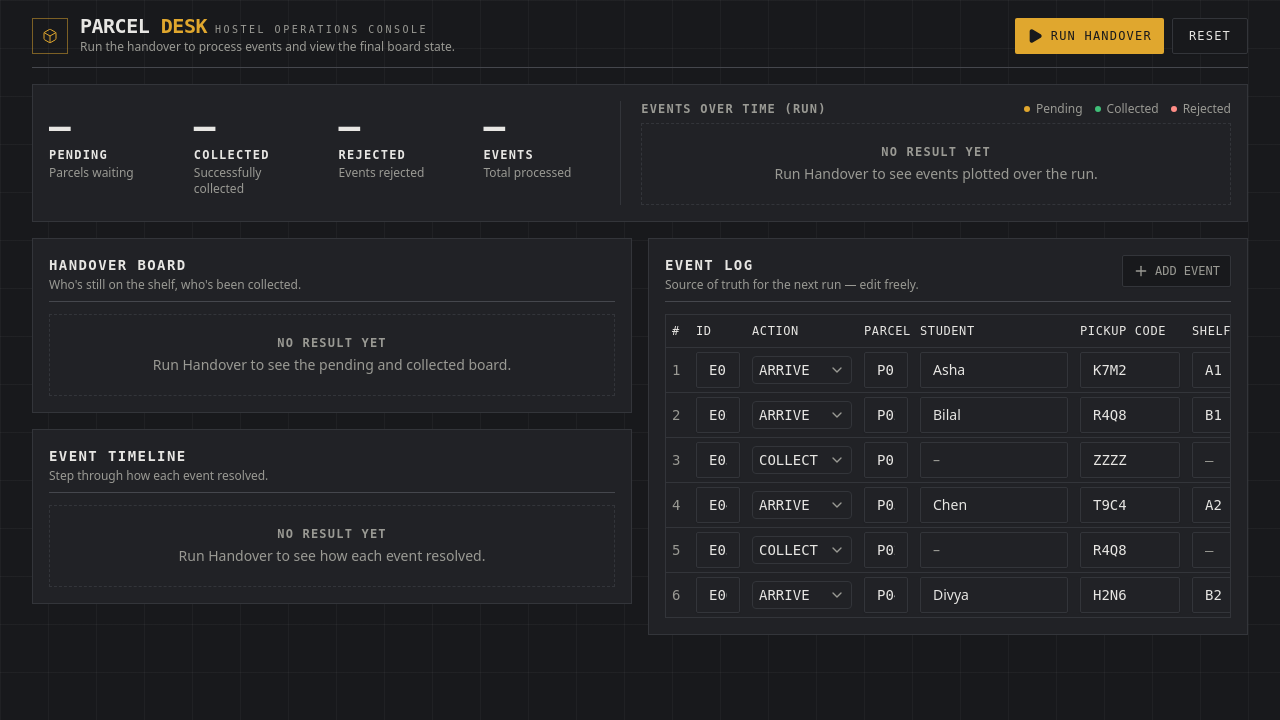
App — Add Event › appends a new blank row to the table
The width and height of the screenshot is (1280, 720).
Click the button "Add Event" at (1176, 271), box [1122,255,1231,287]
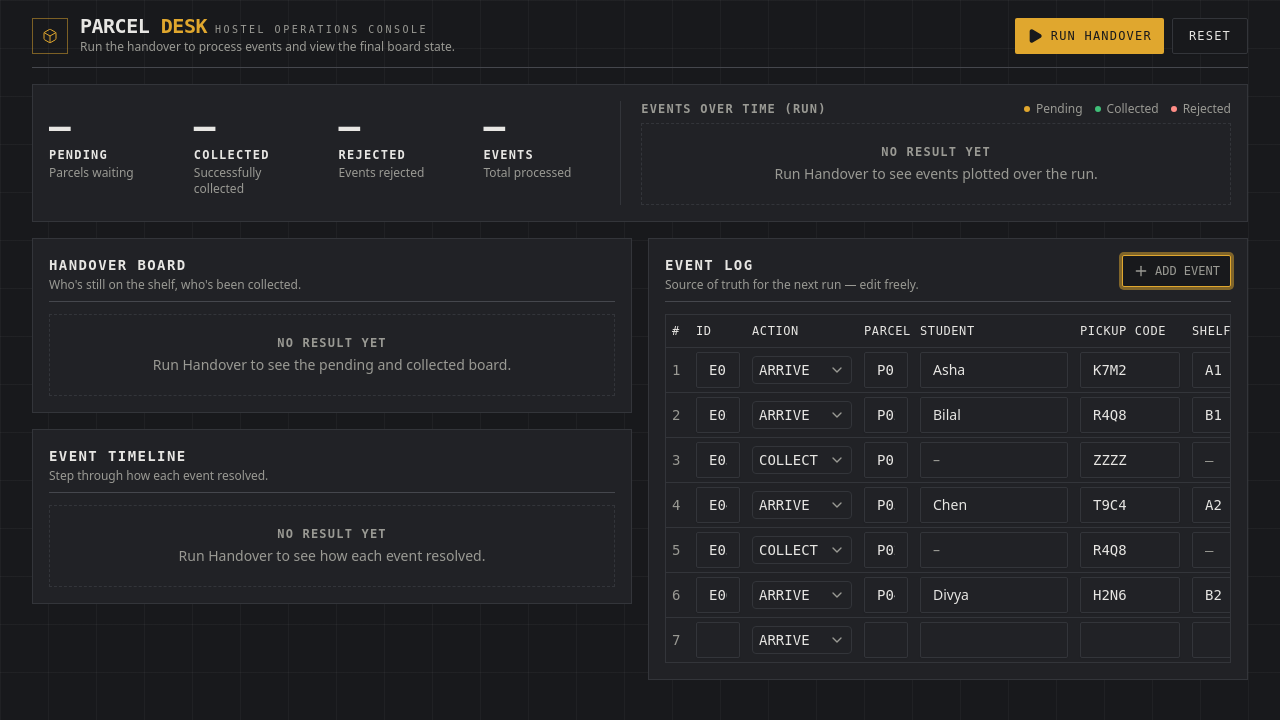
Expected: the field named "Row 7 Event ID" is empty, [696,622,740,658]
Expected: the row with test id "event-row-7" is shown, [666,617,1230,662]
